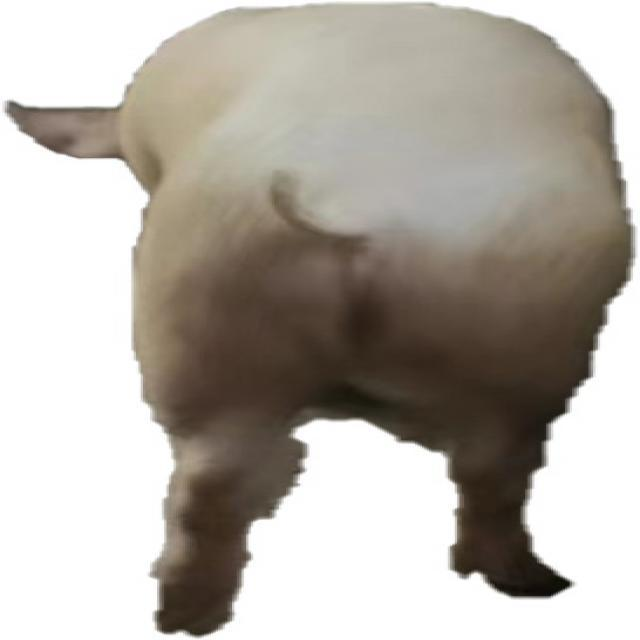pig: (8, 4, 631, 634)
